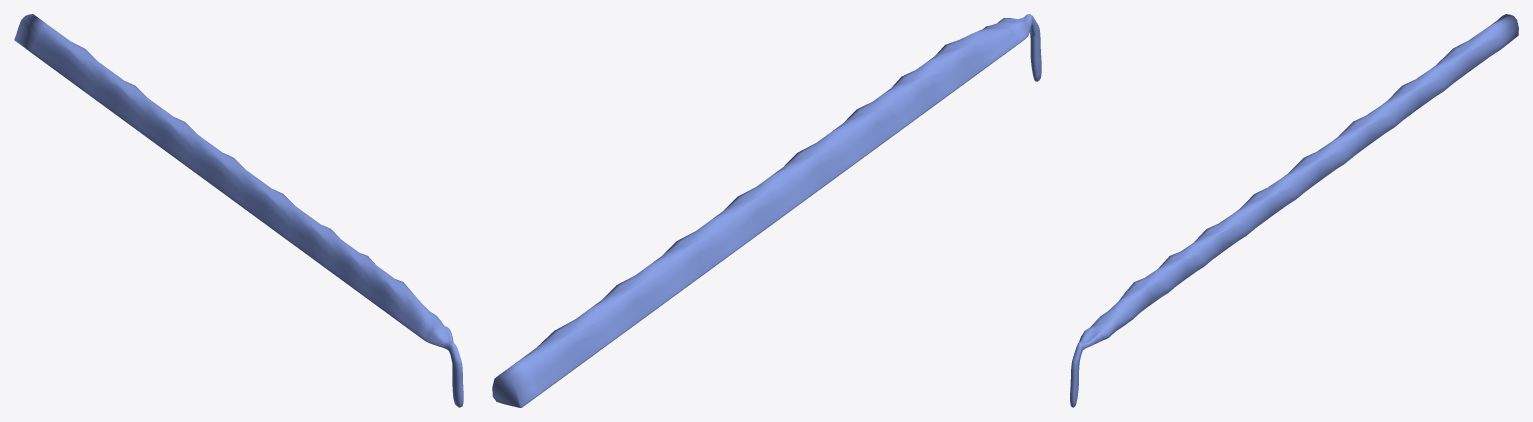
The model's file is rio_v9.3.fbx.
3 renders of one model, left to right at view 1: azimuth 30°, elevation 25°; view 2: azimuth 150°, elevation 25°; view 3: azimuth 330°, elevation 25°, orthographic. The views are drawn at different scales.
Parts seen in each view (by area): view 1: Cylinder.001; view 2: Cylinder.001; view 3: Cylinder.001.
Boxes of the visible parts, bbox=[...] form: Cylinder.001: bbox=[14, 14, 463, 407]; Cylinder.001: bbox=[492, 14, 1041, 407]; Cylinder.001: bbox=[1070, 14, 1518, 407].
Size of the model in its own units: 1133 by 3548 by 35631.
